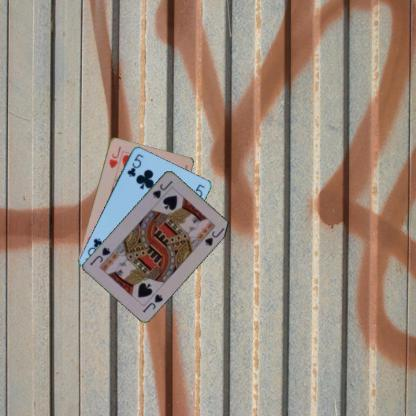5c: (124, 151, 145, 178)
Jh: (107, 144, 122, 170)
Js: (140, 291, 164, 314), (150, 178, 174, 200)
